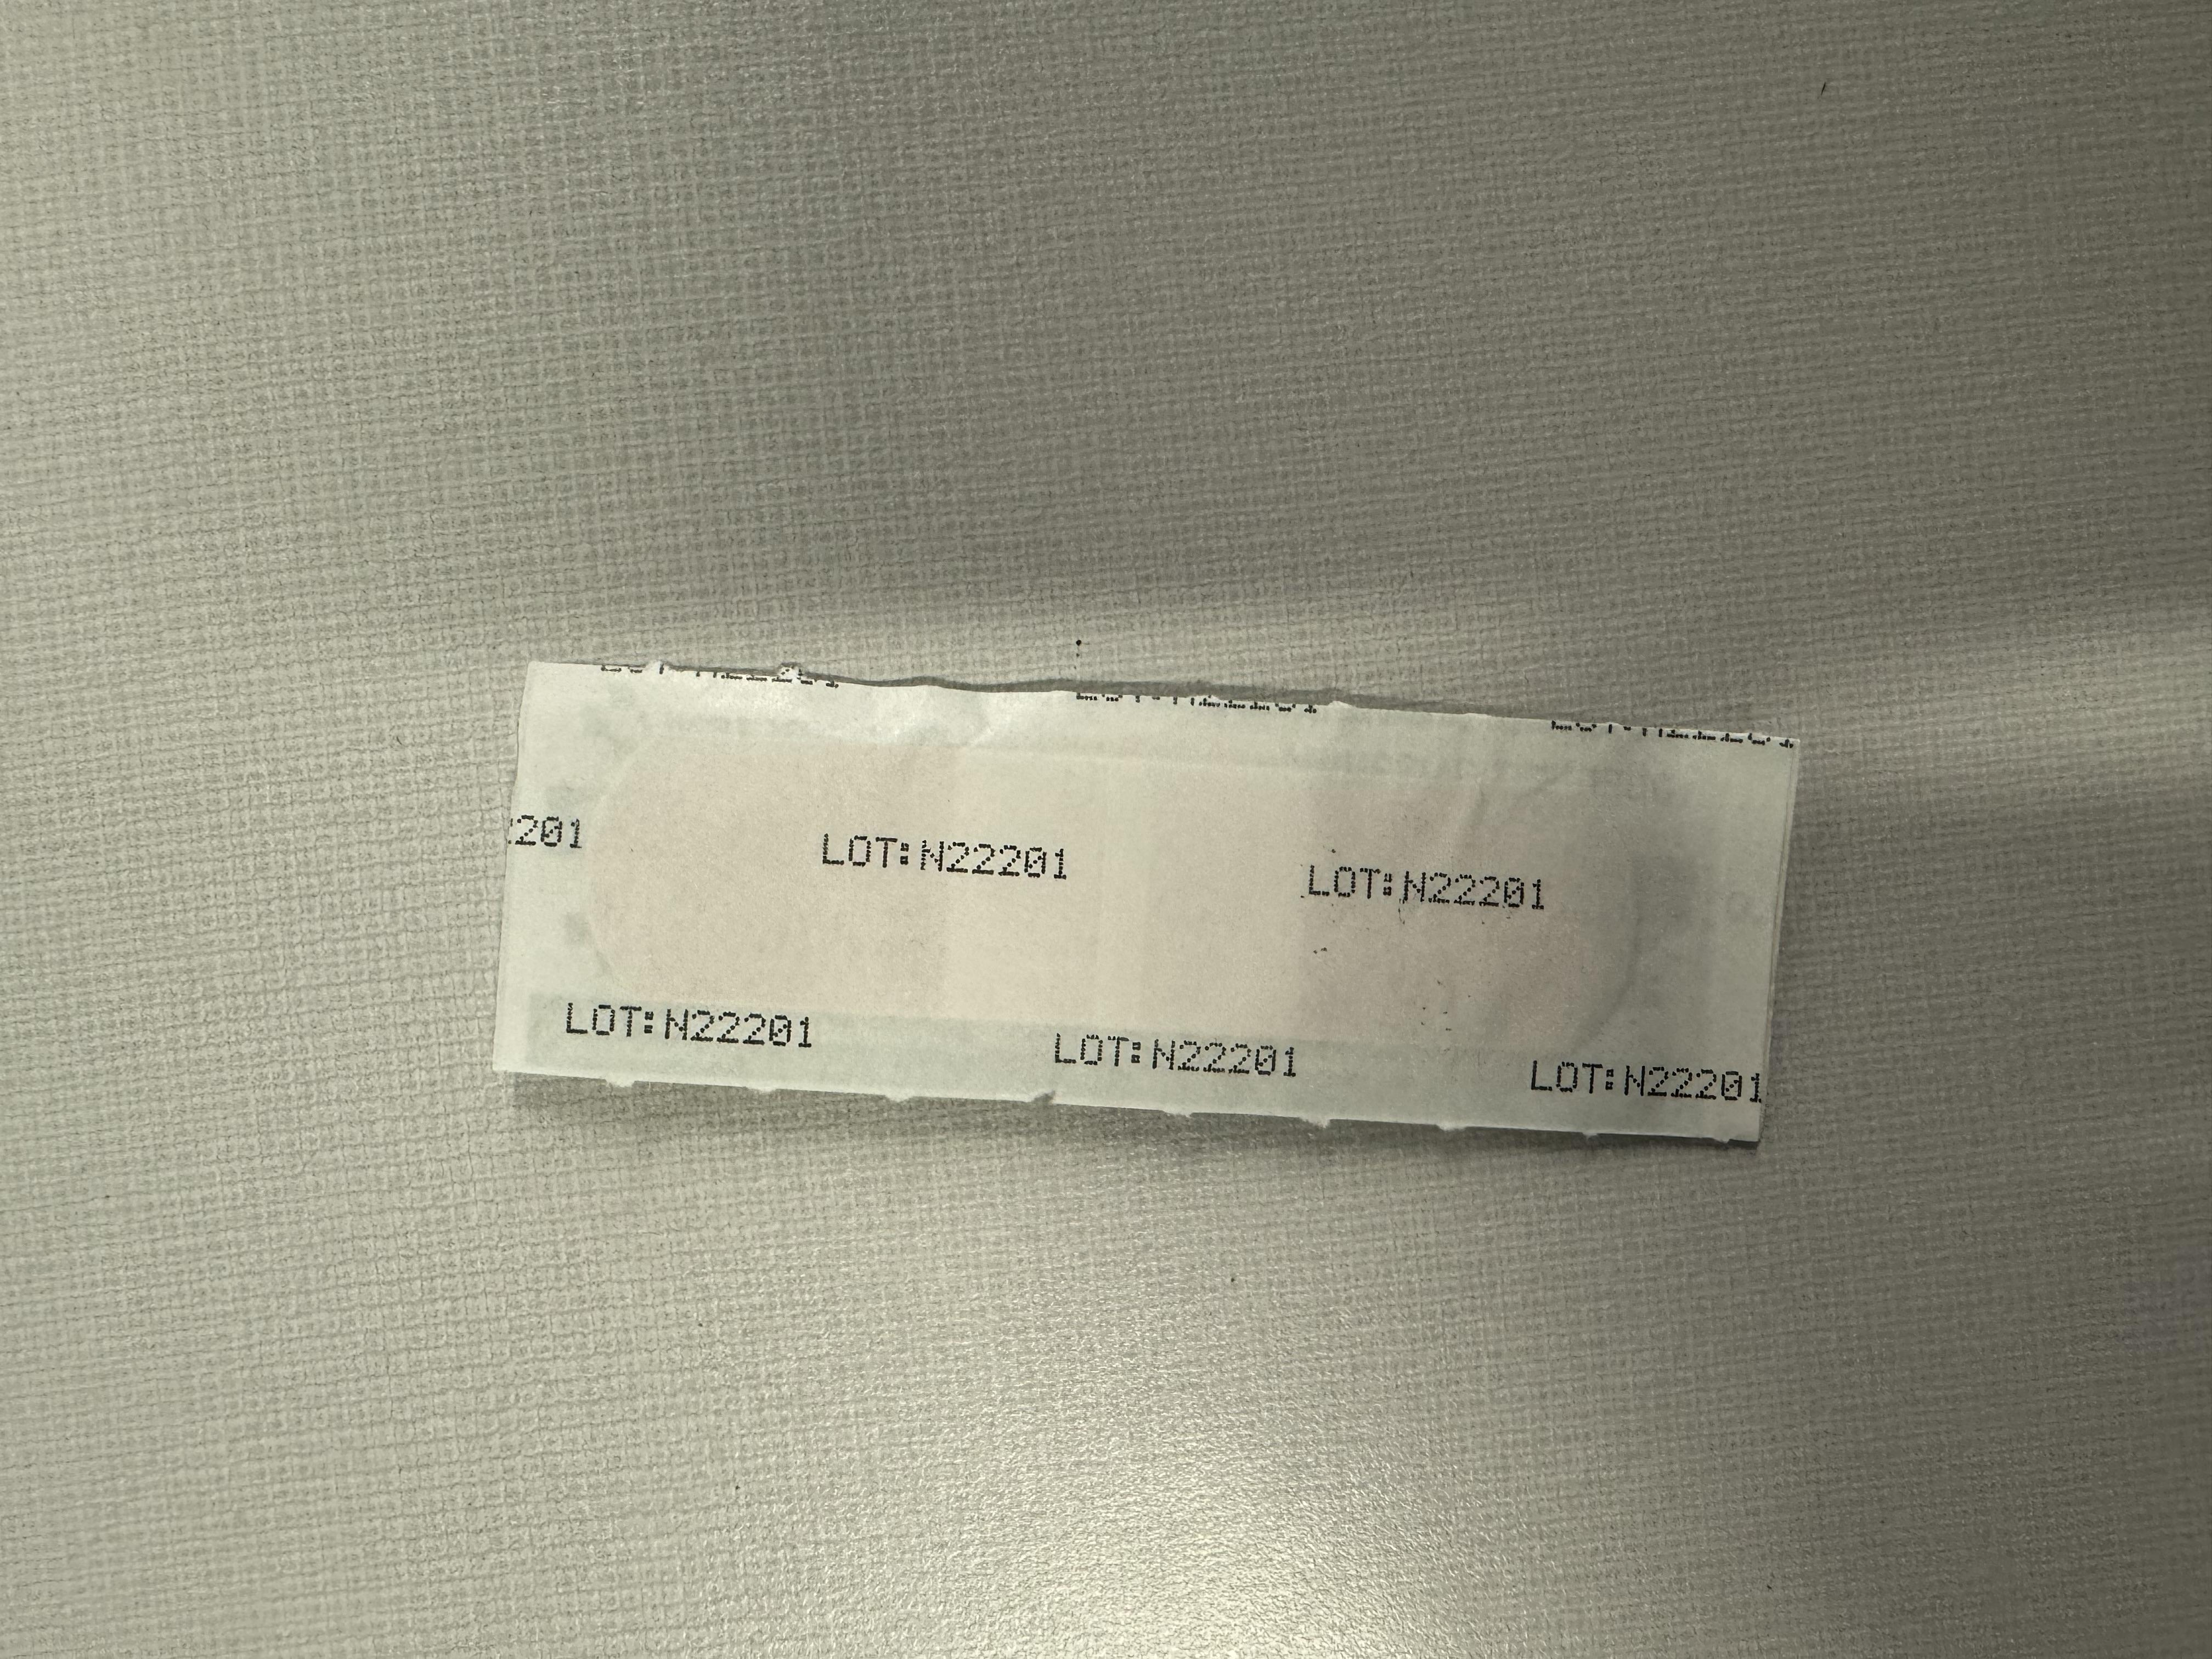bandage: (395, 411, 1754, 1063)
